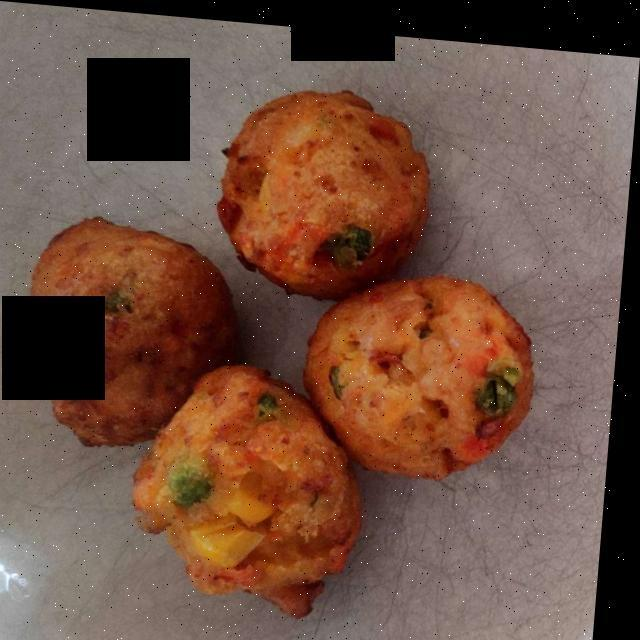falafel-balls: (43, 88, 534, 604)
